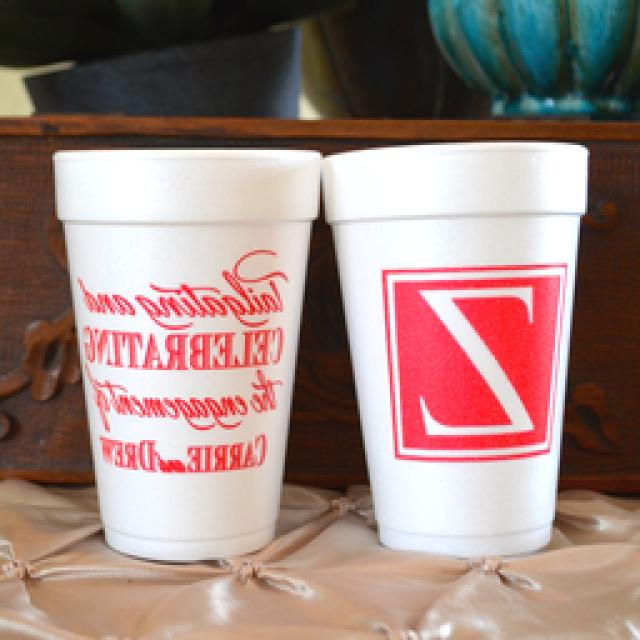inorganic: (325, 138, 591, 558)
